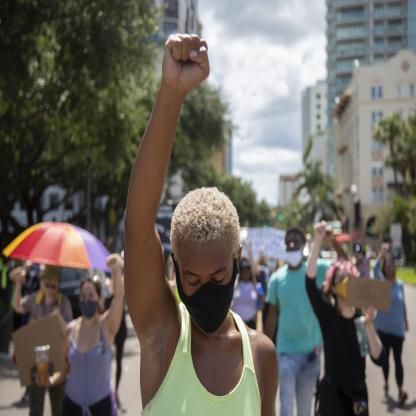fist: (159, 30, 214, 89)
